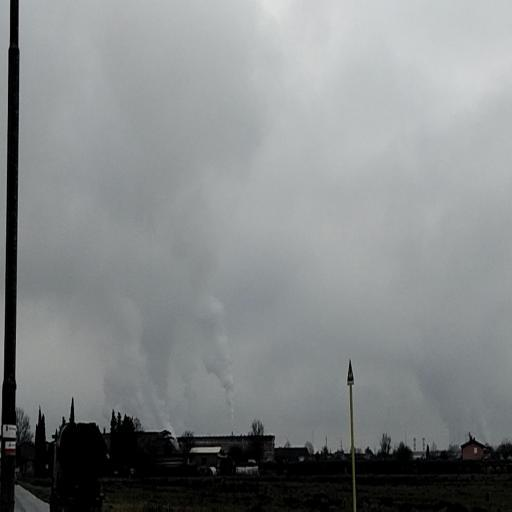leakage: (78, 181, 245, 458)
